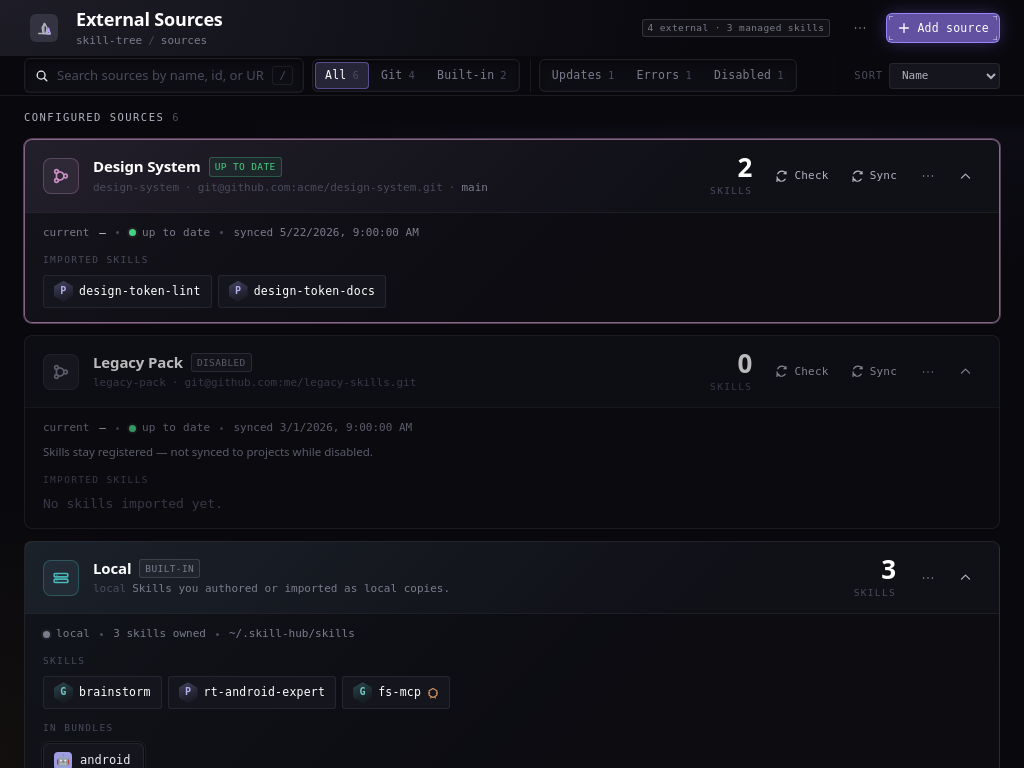
Test case: Sources — search › narrows the list by name, id, and URL
Type "design" into the field with placeholder "Search sources by name, id, or URL…" at (161, 76), box [57, 66, 264, 85]
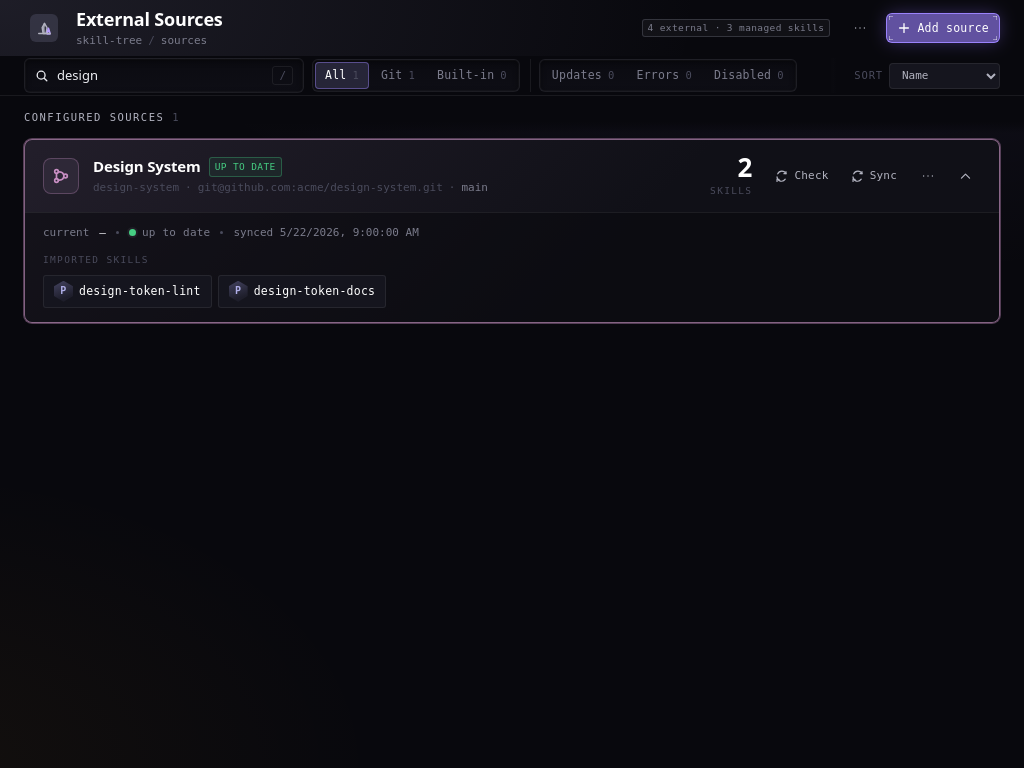
Check: the element with class "source-card-name" shows "Design System", box [93, 156, 201, 176]
# Matches the id, not just the display name.
Replace the text in the field with placeholder "Search sources by name, id, or URL…" with "legacy-pack" at (161, 76), box [57, 66, 264, 85]
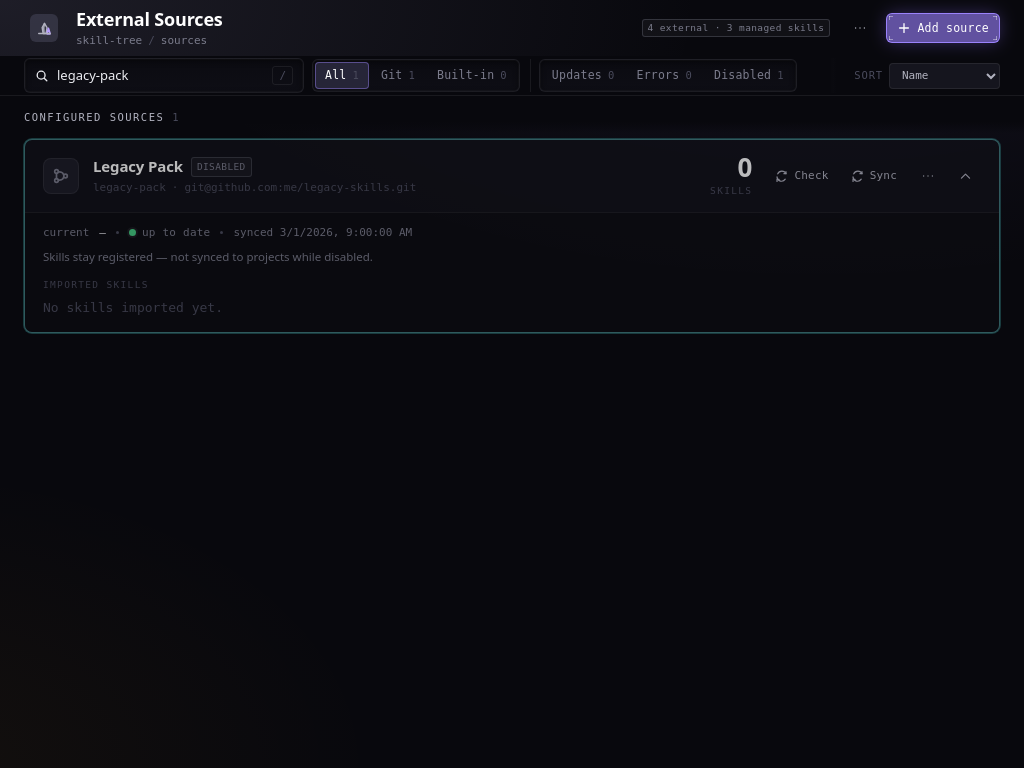
Check: the element with class "source-card-name" shows "Legacy Pack", box [93, 156, 183, 176]
# Matches the remote URL.
Replace the text in the field with placeholder "Search sources by name, id, or URL…" with "partner/agent-skills" at (161, 76), box [57, 66, 264, 85]
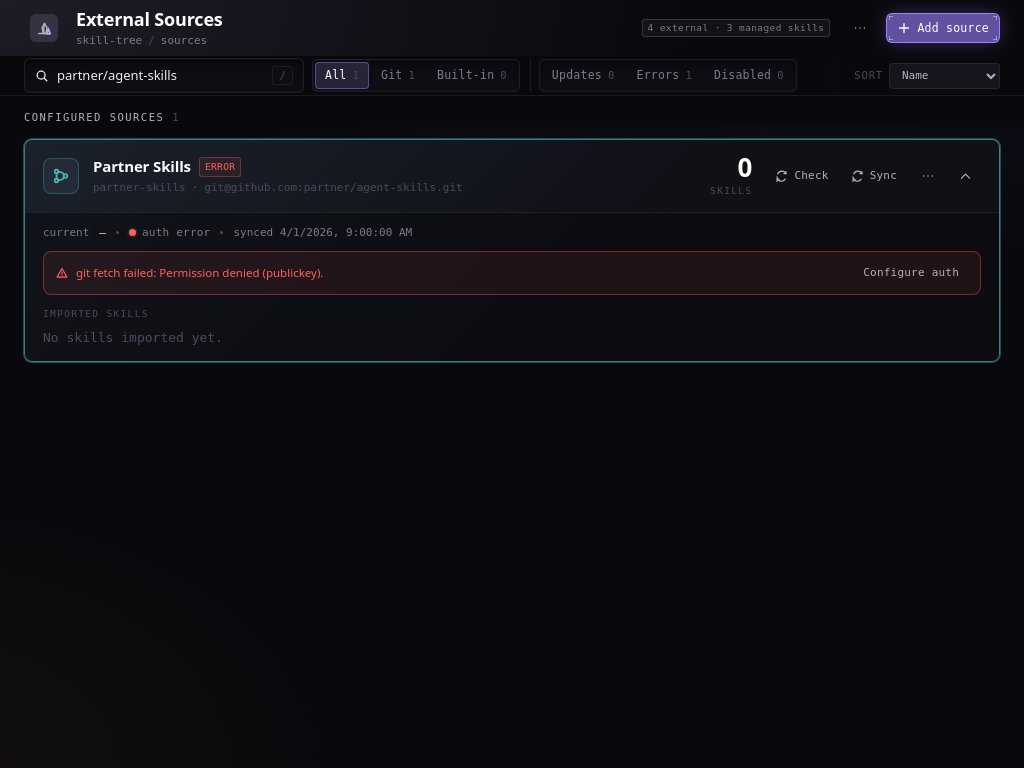
Check: the element with class "source-card-name" shows "Partner Skills", box [93, 156, 191, 176]
